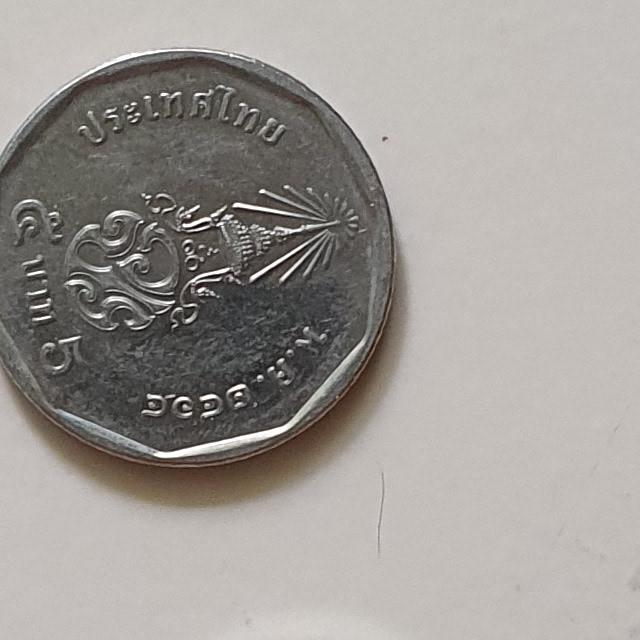5 Bath: (1, 40, 403, 477)
